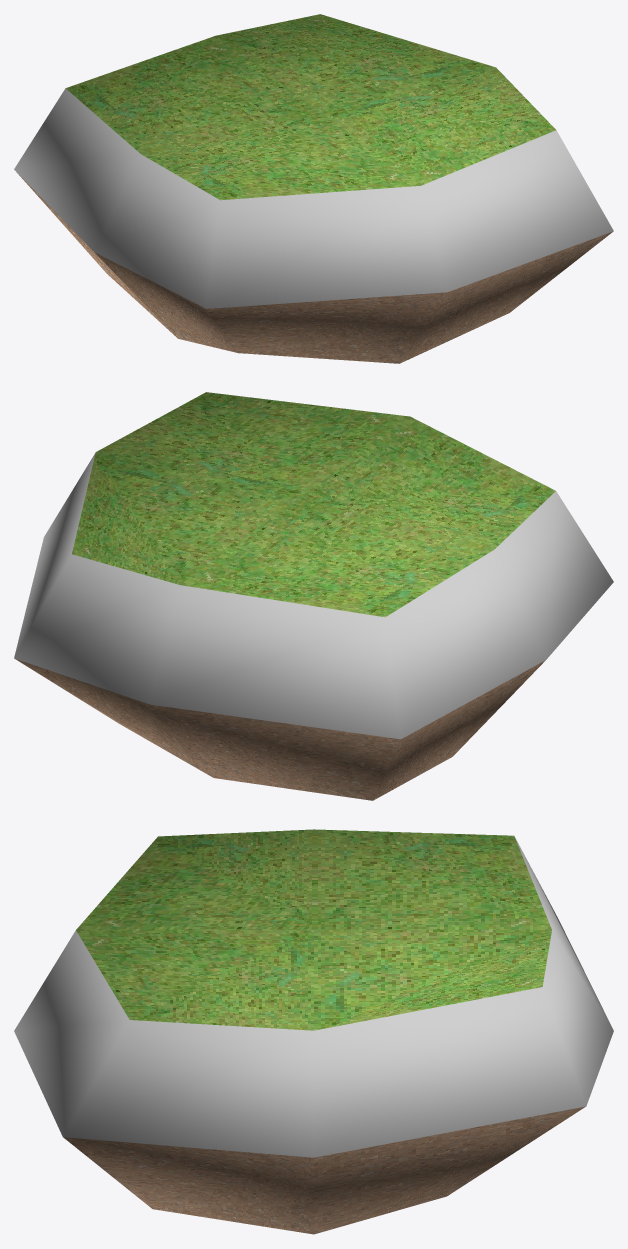
File: Platform.fbx
3 views of the same model, one above another, from view 1: azimuth 30°, elevation 25°; view 2: azimuth 150°, elevation 25°; view 3: azimuth 270°, elevation 25° (orthographic). The views are drawn at different scales.
Visible parts, largest first — view 1: platform; view 2: platform; view 3: platform.
Boxes of the visible parts, bbox=[...] form: platform: bbox=[14, 14, 613, 363]; platform: bbox=[14, 392, 613, 800]; platform: bbox=[14, 829, 613, 1234].
Bounding box in the file's own units: 2651 × 1184 × 2651.
